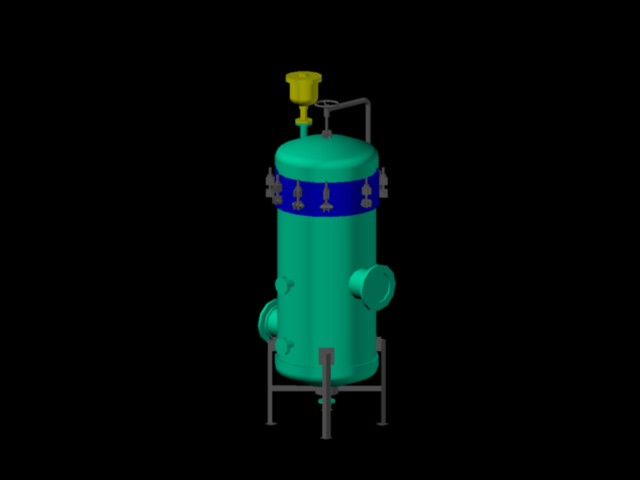nozzle: (343, 260, 407, 317)
